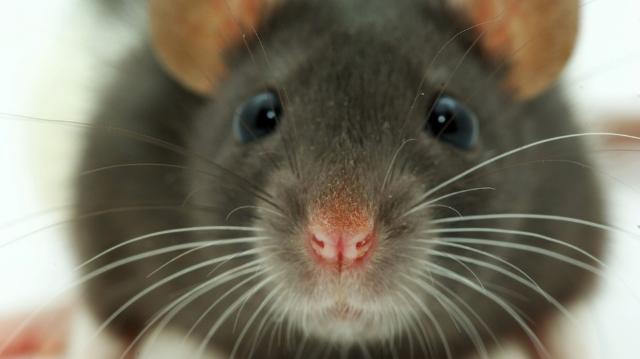rat: (117, 0, 608, 358)
